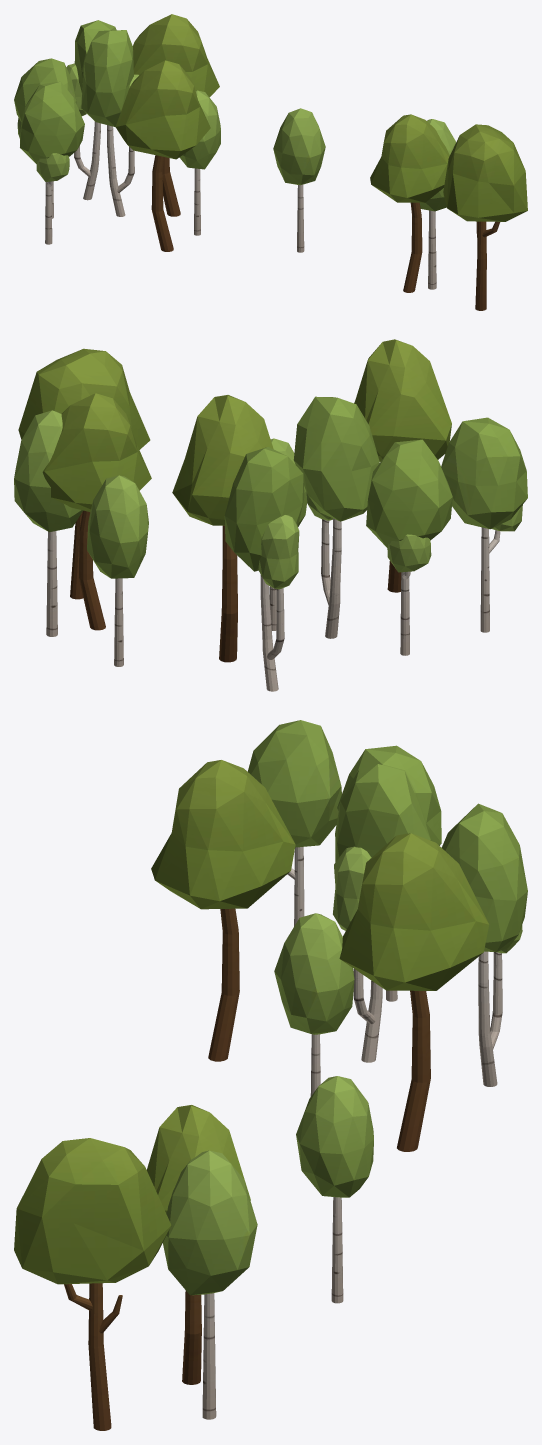
Rendered from Trees1.gltf.
The picture shows the model from 3 angles, top to bottom: view 1: azimuth 30°, elevation 25°; view 2: azimuth 150°, elevation 25°; view 3: azimuth 270°, elevation 25°; orthographic projection. The views are drawn at different scales.
Visible parts, largest first — view 1: Beechtree3 - copy.035, Beechtree1 - copy.028, Beechtree1 - copy.003, BirchTree2 - copy.029, BirchTree3 - copy.030, Beechtree1 - copy.032, BirchTree1 - copy.039, BirchTree2 - copy.022, BirchTree1 - copy.036, BirchTree3 - copy.035, BirchTree1 - copy.016; view 2: BirchTree2 - copy.022, BirchTree2 - copy.029, Beechtree1 - copy.032, Beechtree1 - copy.003, BirchTree3 - copy.035, BirchTree3 - copy.030, Beechtree1 - copy.028, Beechtree3 - copy.035, BirchTree1 - copy.039, BirchTree1 - copy.016, BirchTree1 - copy.036; view 3: Beechtree3 - copy.035, Beechtree1 - copy.032, Beechtree1 - copy.028, BirchTree1 - copy.016, BirchTree2 - copy.022, BirchTree2 - copy.029, BirchTree3 - copy.030, BirchTree1 - copy.039, BirchTree1 - copy.036, Beechtree1 - copy.003, BirchTree3 - copy.035.
Part boxes in pixels (left/top/right/bottom): Beechtree3 - copy.035: left=443, top=124, right=527, bottom=310; Beechtree1 - copy.028: left=115, top=60, right=210, bottom=251; Beechtree1 - copy.003: left=370, top=114, right=449, bottom=292; BirchTree2 - copy.029: left=81, top=30, right=138, bottom=216; BirchTree3 - copy.030: left=20, top=81, right=84, bottom=244; Beechtree1 - copy.032: left=133, top=14, right=219, bottom=216; BirchTree1 - copy.039: left=273, top=108, right=325, bottom=252; BirchTree2 - copy.022: left=66, top=20, right=116, bottom=200; BirchTree1 - copy.036: left=179, top=90, right=220, bottom=235; BirchTree3 - copy.035: left=14, top=58, right=76, bottom=218; BirchTree1 - copy.016: left=419, top=119, right=455, bottom=289; BirchTree2 - copy.022: left=224, top=447, right=304, bottom=691; BirchTree2 - copy.029: left=293, top=396, right=379, bottom=638; Beechtree1 - copy.032: left=172, top=395, right=273, bottom=662; Beechtree1 - copy.003: left=42, top=393, right=151, bottom=630; BirchTree3 - copy.035: left=366, top=439, right=452, bottom=655; BirchTree3 - copy.030: left=441, top=417, right=527, bottom=632; Beechtree1 - copy.028: left=354, top=339, right=451, bottom=592; Beechtree3 - copy.035: left=18, top=348, right=150, bottom=599; BirchTree1 - copy.039: left=87, top=475, right=148, bottom=666; BirchTree1 - copy.016: left=14, top=410, right=83, bottom=636; BirchTree1 - copy.036: left=269, top=438, right=306, bottom=630; Beechtree3 - copy.035: left=14, top=1138, right=171, bottom=1430; Beechtree1 - copy.032: left=339, top=833, right=489, bottom=1151; Beechtree1 - copy.028: left=151, top=760, right=295, bottom=1061; BirchTree1 - copy.016: left=163, top=1150, right=257, bottom=1419; BirchTree2 - copy.022: left=441, top=803, right=527, bottom=1086; BirchTree2 - copy.029: left=333, top=764, right=430, bottom=1062; BirchTree3 - copy.030: left=247, top=720, right=341, bottom=926; BirchTree1 - copy.039: left=296, top=1076, right=373, bottom=1303; BirchTree1 - copy.036: left=274, top=913, right=354, bottom=1096; Beechtree1 - copy.003: left=147, top=1105, right=250, bottom=1384; BirchTree3 - copy.035: left=337, top=745, right=441, bottom=1001.
Size of the model in its own units: 23.48 by 15.07 by 15.43.
Materials: 5 (5 with a texture image).
